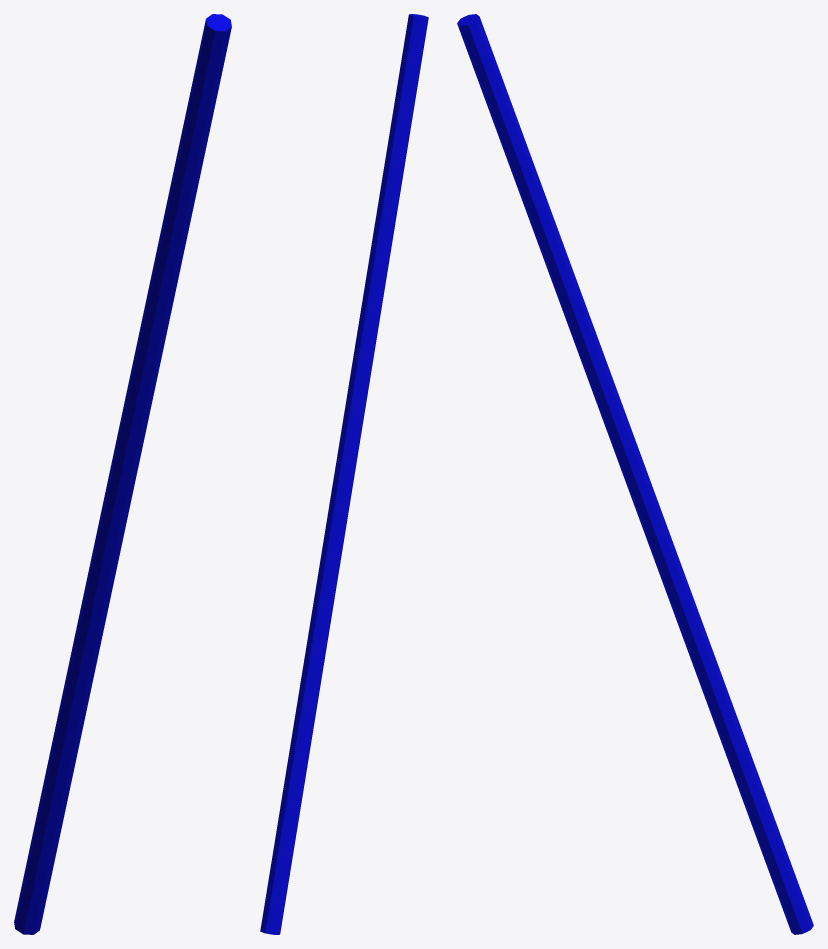
The model's file is normal2.gltf.
3 views of the same model, side by side, from view 1: azimuth 30°, elevation 25°; view 2: azimuth 150°, elevation 25°; view 3: azimuth 270°, elevation 25° (orthographic). The views are drawn at different scales.
Visible parts, largest first — view 1: normal2; view 2: normal2; view 3: normal2.
Boxes of the visible parts, x1,y1,x2,y2 form: normal2: (14, 14, 231, 934); normal2: (260, 14, 428, 934); normal2: (457, 14, 813, 934).
Size of the model in its own units: 3.48 by 148 by 52.28.
